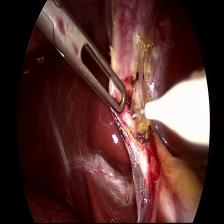Grasper: (34, 0, 135, 125)
Hook: (122, 69, 207, 160)
